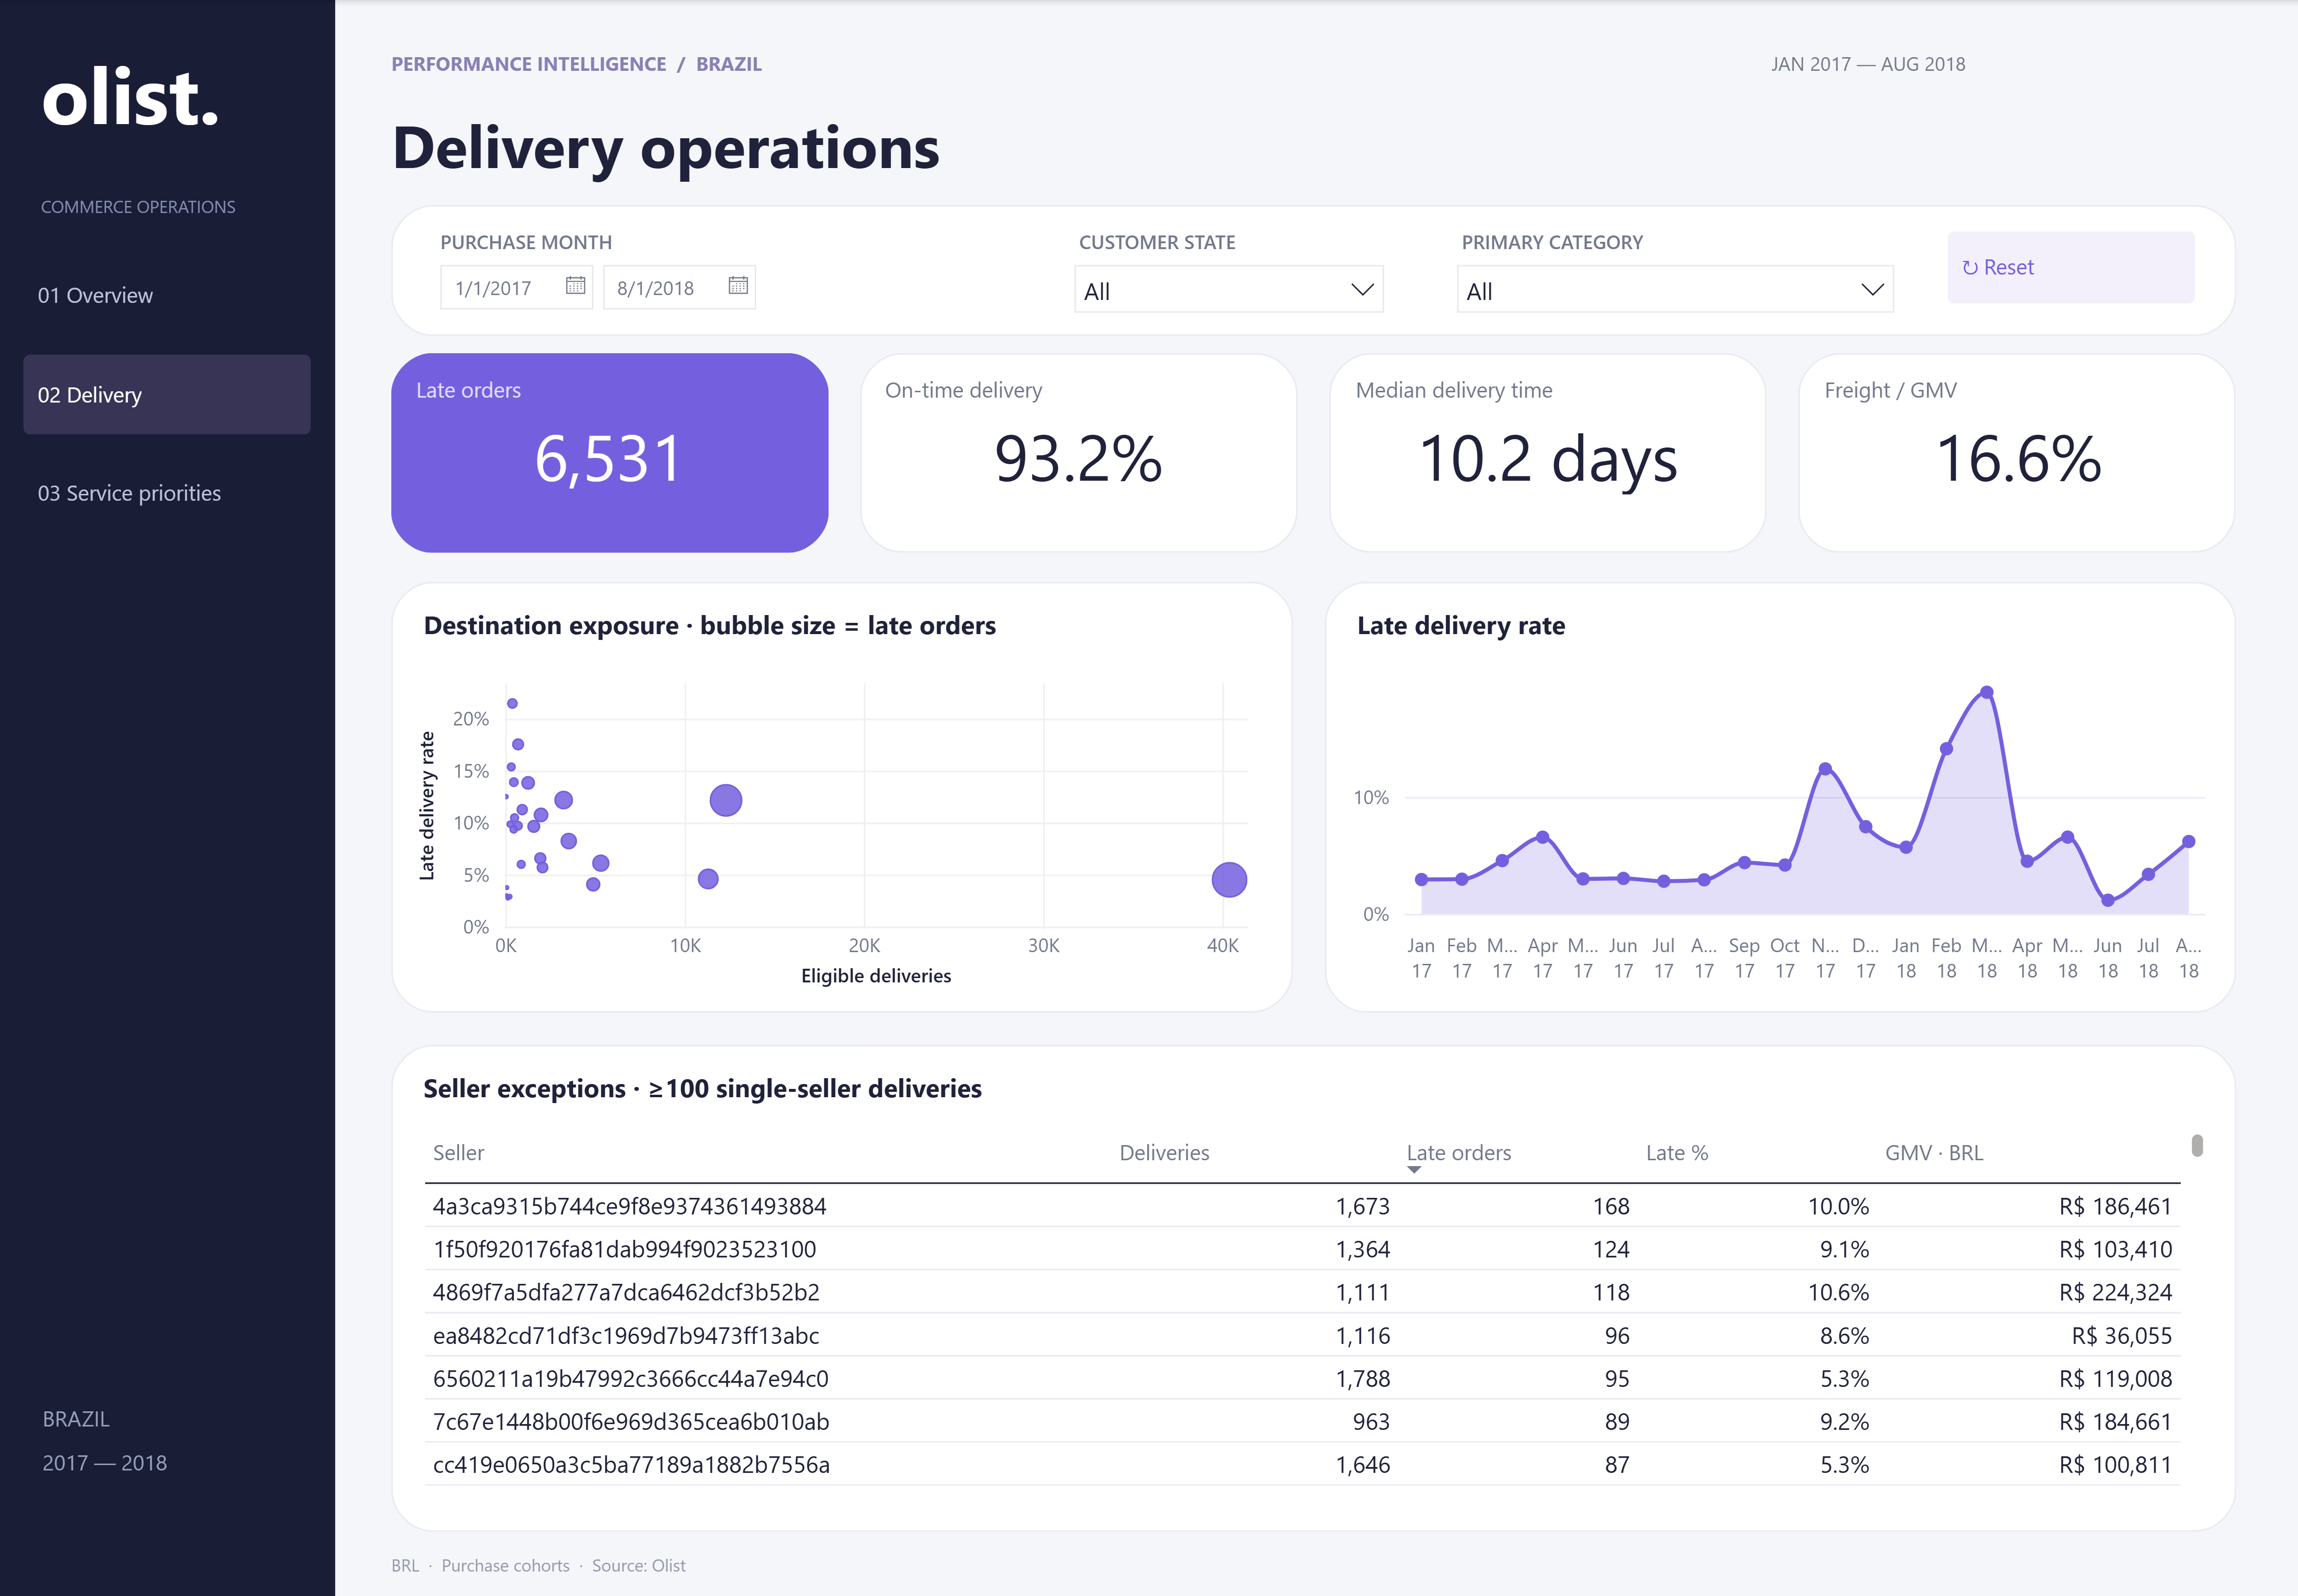

This screenshot's page, from the dashboard's own definition file:
{"tool":"powerbi","page":{"name":"Delivery operations","canvas":[1440,1000],"ordinal":1},"visuals":[{"type":"shape","box":[0,0,210,1000],"z":1},{"type":"shape","box":[245,129,1156,82],"z":15},{"type":"shape","box":[245,221,274,125],"z":23},{"type":"shape","box":[539,221,274,125],"z":27},{"type":"shape","box":[833,221,274,125],"z":31},{"type":"shape","box":[1127,221,274,125],"z":35},{"type":"shape","box":[245,365,565,270],"z":39},{"type":"shape","box":[830,365,571,270],"z":42},{"type":"shape","box":[245,655,1156,305],"z":45},{"type":"textbox","box":[26,25,170,70],"z":1002},{"type":"textbox","box":[26,119,170,24],"z":1003},{"type":"actionButton","box":[15,160,180,50],"z":1004},{"type":"actionButton","box":[15,222,180,50],"z":1005},{"type":"actionButton","box":[15,284,180,50],"z":1006},{"type":"textbox","box":[245,30,850,24],"z":1011},{"type":"textbox","box":[1110,30,305,24],"z":1012},{"type":"textbox","box":[245,65,1150,50],"z":1013},{"type":"slicer","fields":{"Values":["Months.MonthStart"]},"box":[260,135,380,70],"z":1016},{"type":"slicer","fields":{"Values":["States.State"]},"box":[660,135,220,76],"z":1017},{"type":"slicer","fields":{"Values":["Categories.Category"]},"box":[900,135,300,76],"z":1018},{"type":"actionButton","box":[1220,145,155,45],"z":1019},{"type":"textbox","box":[245,971,1160,22],"z":1020},{"type":"textbox","box":[27,880,160,25],"z":1021},{"type":"textbox","box":[27,907,160,25],"z":1022},{"type":"textbox","box":[261,235,244,24],"z":1024},{"type":"card","fields":{"Values":["Orders.Late Orders"]},"box":[259,261,246,49],"z":1025},{"type":"textbox","box":[555,235,244,24],"z":1028},{"type":"card","fields":{"Values":["Orders.On Time Rate"]},"box":[553,261,246,49],"z":1029},{"type":"textbox","box":[849,235,244,24],"z":1032},{"type":"card","fields":{"Values":["Orders.Median Delivery Days"]},"box":[847,261,246,49],"z":1033},{"type":"textbox","box":[1143,235,244,24],"z":1036},{"type":"card","fields":{"Values":["Orders.Freight Ratio"]},"box":[1141,261,246,49],"z":1037},{"type":"textbox","box":[265,380,525,28],"z":1040},{"type":"scatterChart","fields":{"Category":["States.State"],"Size":["Orders.Late Orders"],"X":["Orders.Eligible Deliveries"],"Y":["Orders.Late Rate"]},"box":[263,421,529,198],"z":1041},{"type":"textbox","box":[850,380,531,28],"z":1043},{"type":"areaChart","fields":{"Category":["Months.Month"],"Y":["Orders.Late Rate"]},"box":[848,421,535,198],"z":1044},{"type":"textbox","box":[265,670,1116,28],"z":1046},{"type":"tableEx","fields":{"Values":["Sellers.SellerId","Orders.Queue Eligible","Orders.Queue Late","Orders.Queue Rate","Orders.Queue GMV"]},"box":[265,710,1116,226],"z":1047}]}

Visuals, with their boxes on the page's 1440x1000 design canvas (x1, y1, x2, y2). These are canvas units, not pixel positions in the 2298x1596 screenshot, which may show the page scaled, cropped or inside an application window:
shape: left=0, top=0, right=210, bottom=1000
shape: left=245, top=129, right=1401, bottom=211
shape: left=245, top=221, right=519, bottom=346
shape: left=539, top=221, right=813, bottom=346
shape: left=833, top=221, right=1107, bottom=346
shape: left=1127, top=221, right=1401, bottom=346
shape: left=245, top=365, right=810, bottom=635
shape: left=830, top=365, right=1401, bottom=635
shape: left=245, top=655, right=1401, bottom=960
textbox: left=26, top=25, right=196, bottom=95
textbox: left=26, top=119, right=196, bottom=143
actionButton: left=15, top=160, right=195, bottom=210
actionButton: left=15, top=222, right=195, bottom=272
actionButton: left=15, top=284, right=195, bottom=334
textbox: left=245, top=30, right=1095, bottom=54
textbox: left=1110, top=30, right=1415, bottom=54
textbox: left=245, top=65, right=1395, bottom=115
slicer - Months.MonthStart: left=260, top=135, right=640, bottom=205
slicer - States.State: left=660, top=135, right=880, bottom=211
slicer - Categories.Category: left=900, top=135, right=1200, bottom=211
actionButton: left=1220, top=145, right=1375, bottom=190
textbox: left=245, top=971, right=1405, bottom=993
textbox: left=27, top=880, right=187, bottom=905
textbox: left=27, top=907, right=187, bottom=932
textbox: left=261, top=235, right=505, bottom=259
card - Orders.Late Orders: left=259, top=261, right=505, bottom=310
textbox: left=555, top=235, right=799, bottom=259
card - Orders.On Time Rate: left=553, top=261, right=799, bottom=310
textbox: left=849, top=235, right=1093, bottom=259
card - Orders.Median Delivery Days: left=847, top=261, right=1093, bottom=310
textbox: left=1143, top=235, right=1387, bottom=259
card - Orders.Freight Ratio: left=1141, top=261, right=1387, bottom=310
textbox: left=265, top=380, right=790, bottom=408
scatterChart - States.State x Orders.Late Orders: left=263, top=421, right=792, bottom=619
textbox: left=850, top=380, right=1381, bottom=408
areaChart - Months.Month x Orders.Late Rate: left=848, top=421, right=1383, bottom=619
textbox: left=265, top=670, right=1381, bottom=698
tableEx - Sellers.SellerId x Orders.Queue Eligible: left=265, top=710, right=1381, bottom=936
